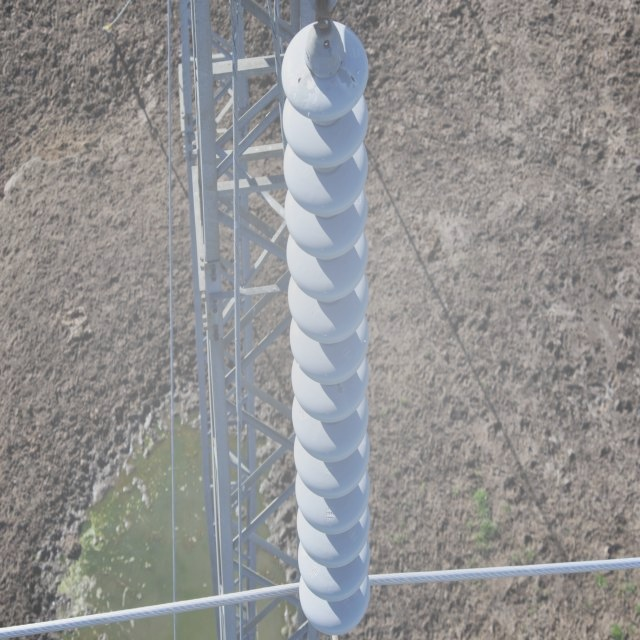insulator: (279, 18, 372, 637)
